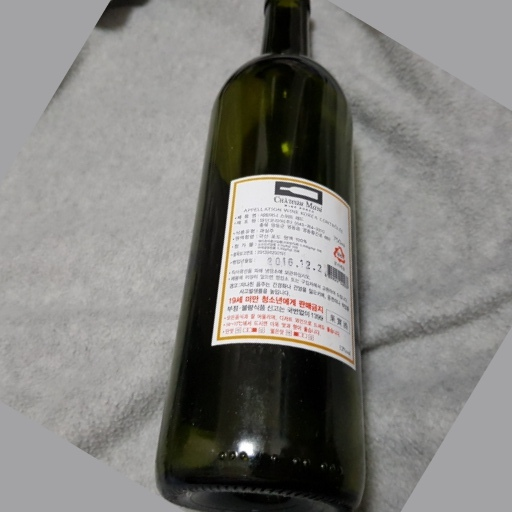Glass_2: (149, 5, 371, 512)
